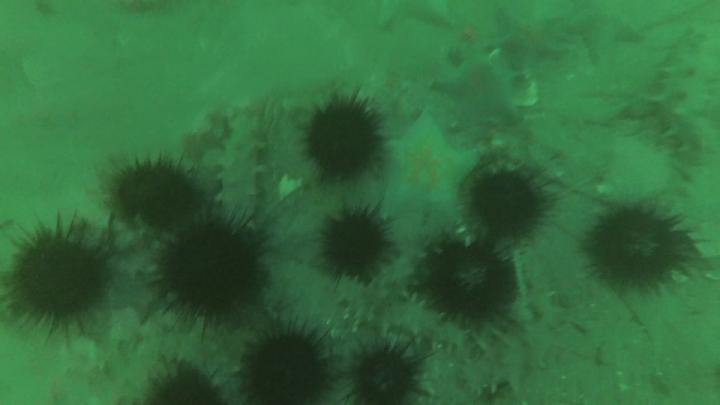echinus: (157, 222, 267, 313), (13, 229, 105, 319), (589, 205, 682, 289), (425, 246, 519, 315), (245, 333, 329, 405), (117, 165, 200, 234), (305, 102, 381, 176), (473, 173, 542, 238), (324, 213, 385, 273), (353, 350, 419, 405), (143, 371, 220, 405)
holothurian: (464, 287, 561, 398), (340, 277, 467, 351), (658, 25, 720, 153), (215, 118, 266, 221)
starfish: (382, 113, 479, 222), (439, 50, 519, 126), (568, 1, 645, 65), (489, 8, 565, 63)
